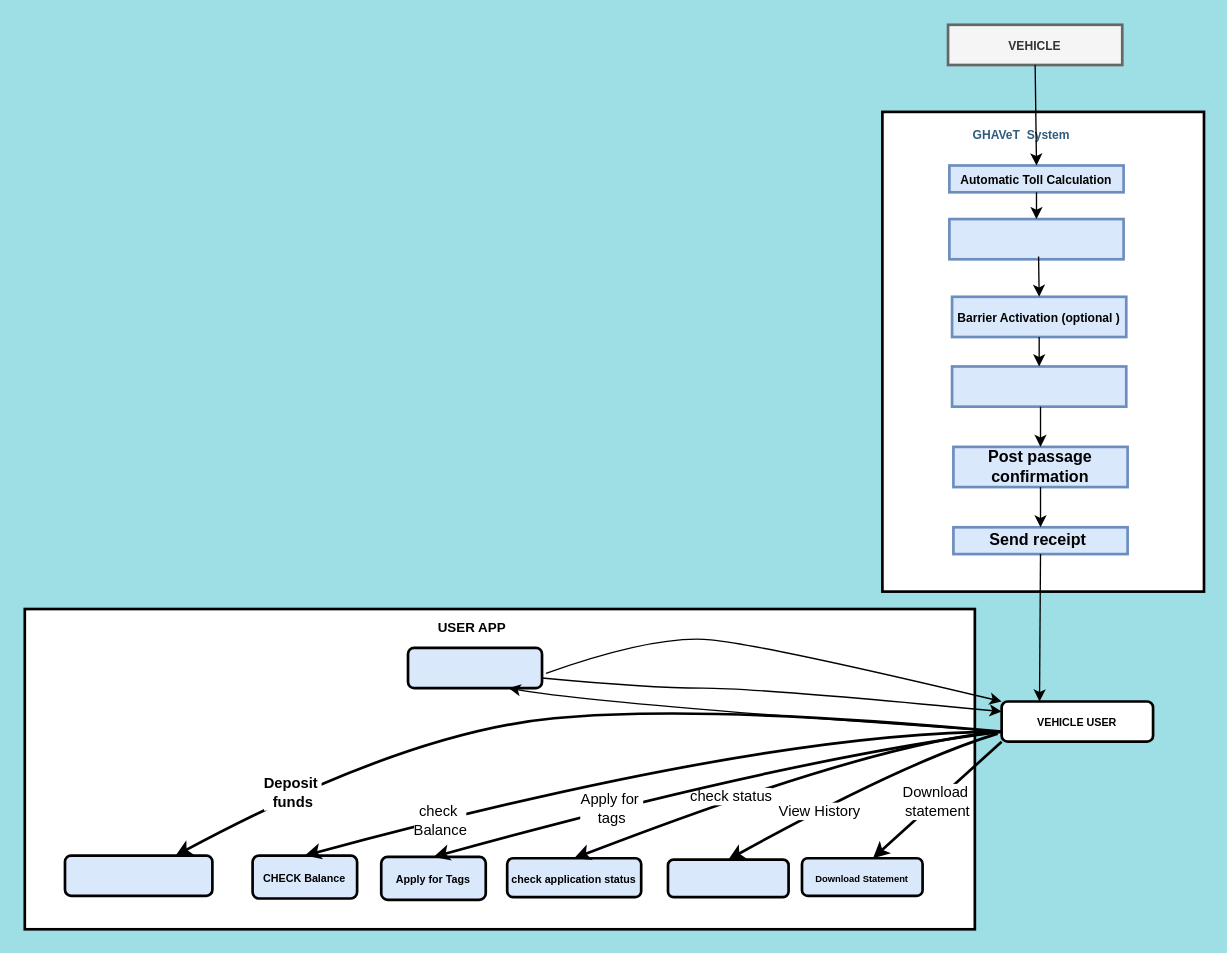
The diagram is 1227 pixels wide and 953 high, and some of its shapes have lost their labels. Here are the shapes that lost their labels. From the top down, the centre of each, then its label:
At pixel 1035 238: "Payment Authorisation".
At pixel 1038 385: "Transaction Recording".
At pixel 474 667: "RECEIVED RECEIPTS".
At pixel 138 875: "Deposit funds (Mobile Money Or VISA".
At pixel 727 878: "View Trasaction history".
